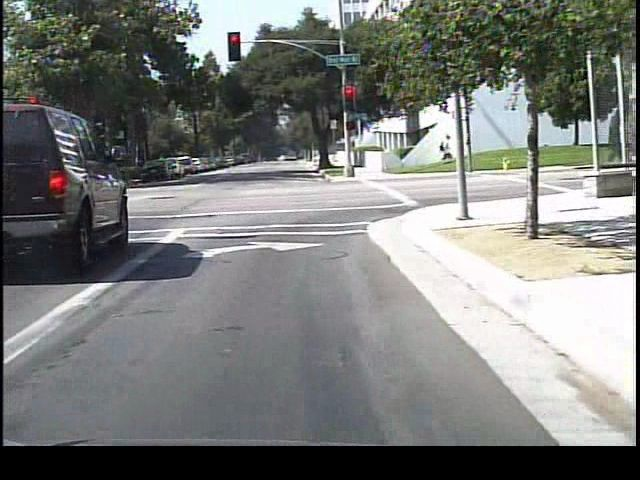person: (433, 127, 456, 161)
